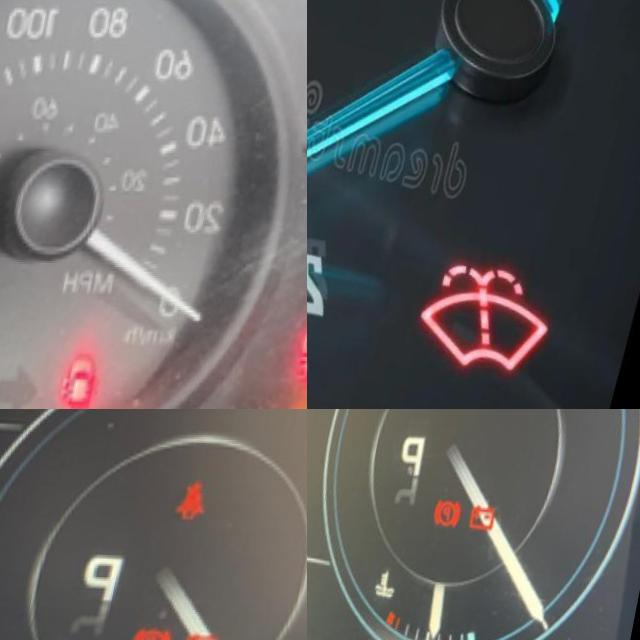Seat Belt: (181, 476, 220, 522)
Washer Fluid: (430, 260, 577, 369)
